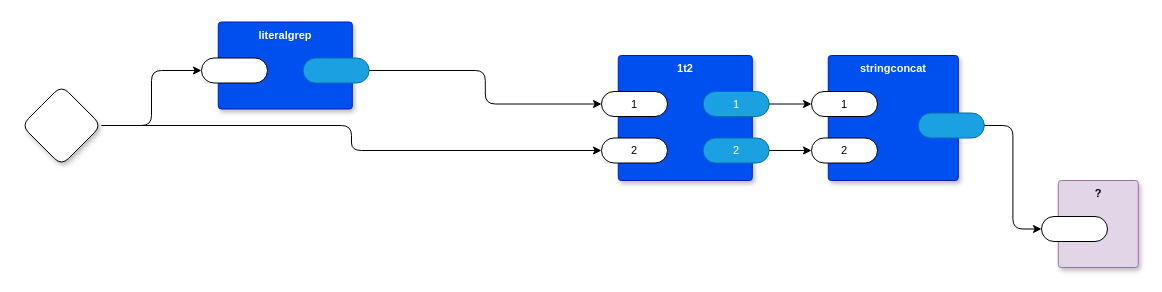
This 1162x292 diagram has some shape labels left out. The centre of each missing label's shape, as x and y in pixels:
"arg" belongs at pixel 62 126.
"go" belongs at pixel 234 70.
"in" belongs at pixel 1074 229.
"literal" belongs at pixel 335 70.
"str" belongs at pixel 950 125.
